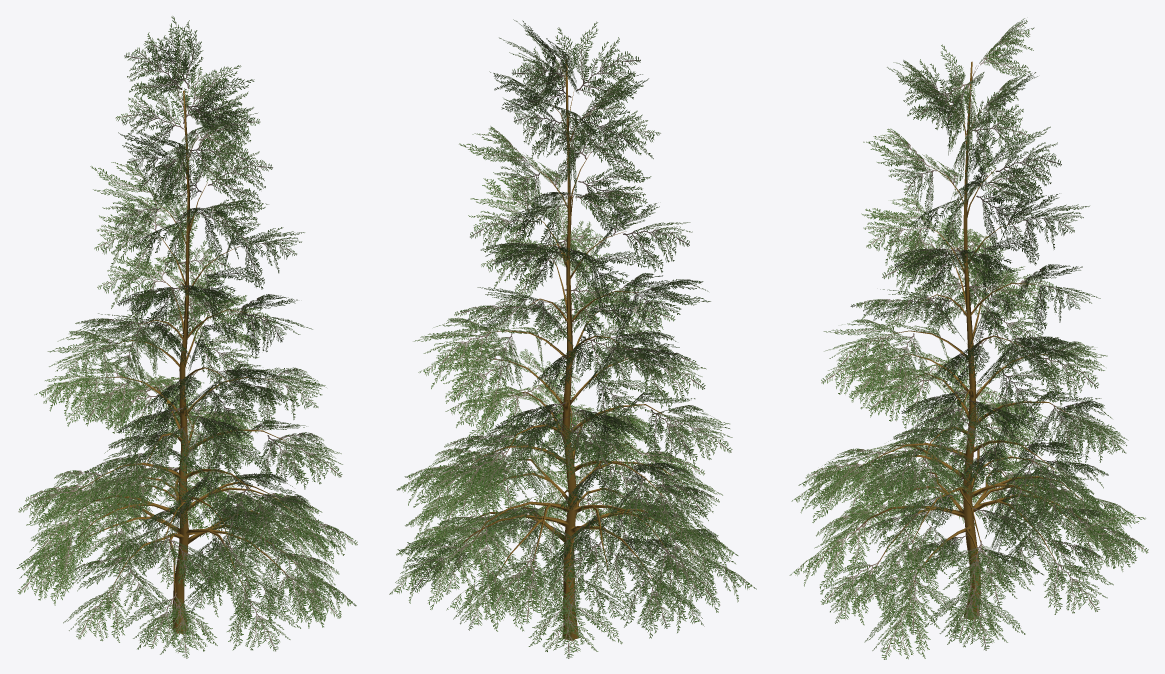
The model's file is sapin_fir_feuilles.glb.
The picture shows the model from 3 angles, left to right: view 1: azimuth 30°, elevation 25°; view 2: azimuth 150°, elevation 25°; view 3: azimuth 270°, elevation 25°; orthographic projection. The views are drawn at different scales.
Visible parts, largest first — view 1: Tree_1, Tree_0_Tree_0Mat_0.001; view 2: Tree_1, Tree_0_Tree_0Mat_0.001; view 3: Tree_1, Tree_0_Tree_0Mat_0.001.
Boxes of the visible parts, bbox=[...] form: Tree_1: bbox=[16, 16, 357, 658]; Tree_0_Tree_0Mat_0.001: bbox=[73, 90, 298, 633]; Tree_1: bbox=[389, 19, 756, 658]; Tree_0_Tree_0Mat_0.001: bbox=[449, 59, 693, 640]; Tree_1: bbox=[789, 18, 1148, 659]; Tree_0_Tree_0Mat_0.001: bbox=[847, 61, 1085, 619].
Size of the model in its own units: 71.67 by 132 by 70.98.
Materials: 2 (1 with a texture image).
